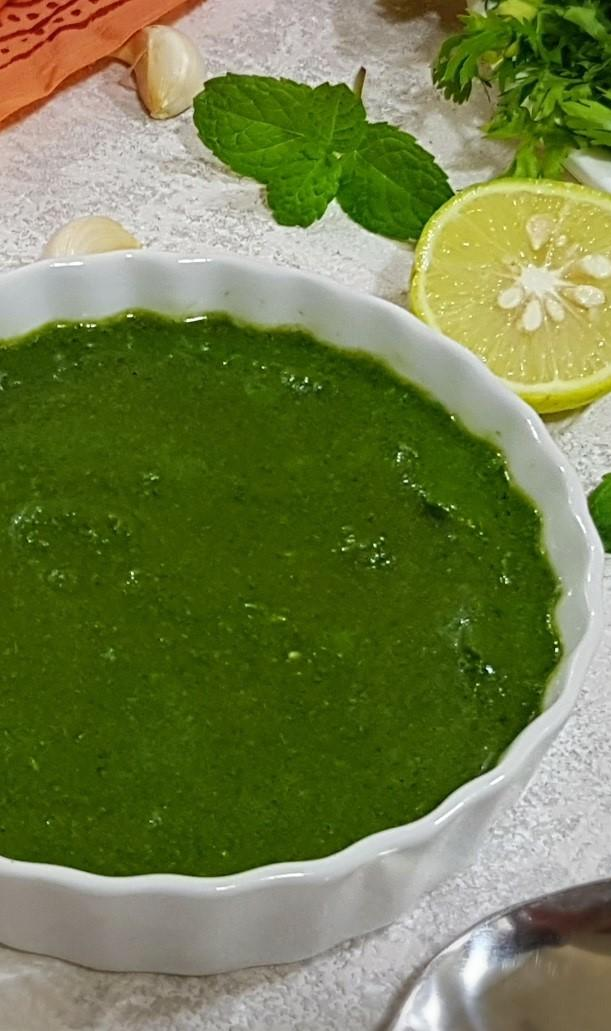GreenChutney: (0, 311, 561, 874)
